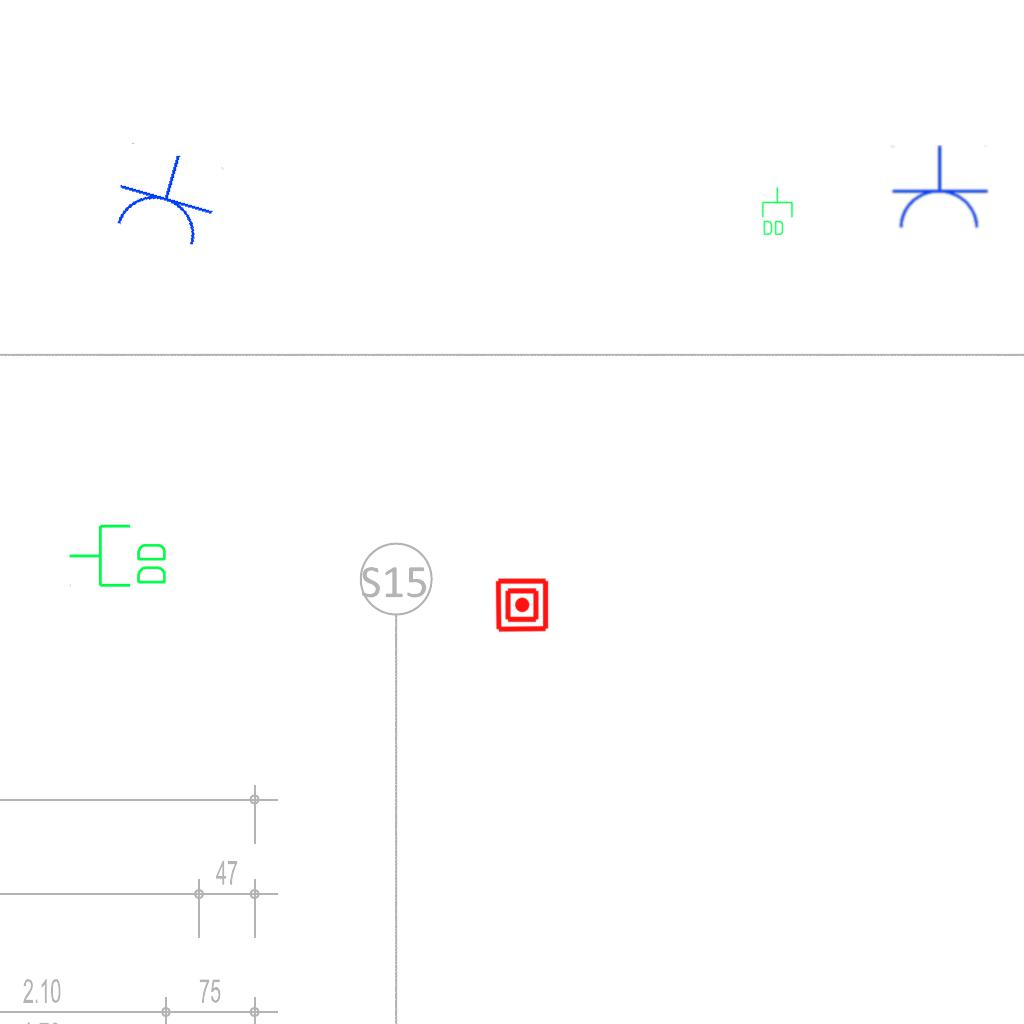Datenanschluss_zweifach: (67, 522, 170, 591), (760, 186, 794, 237)
NAM-Nichtautomatischer_Melder: (494, 577, 550, 633)
Schukosteckdose_einfach: (105, 140, 227, 253), (889, 145, 989, 232)
